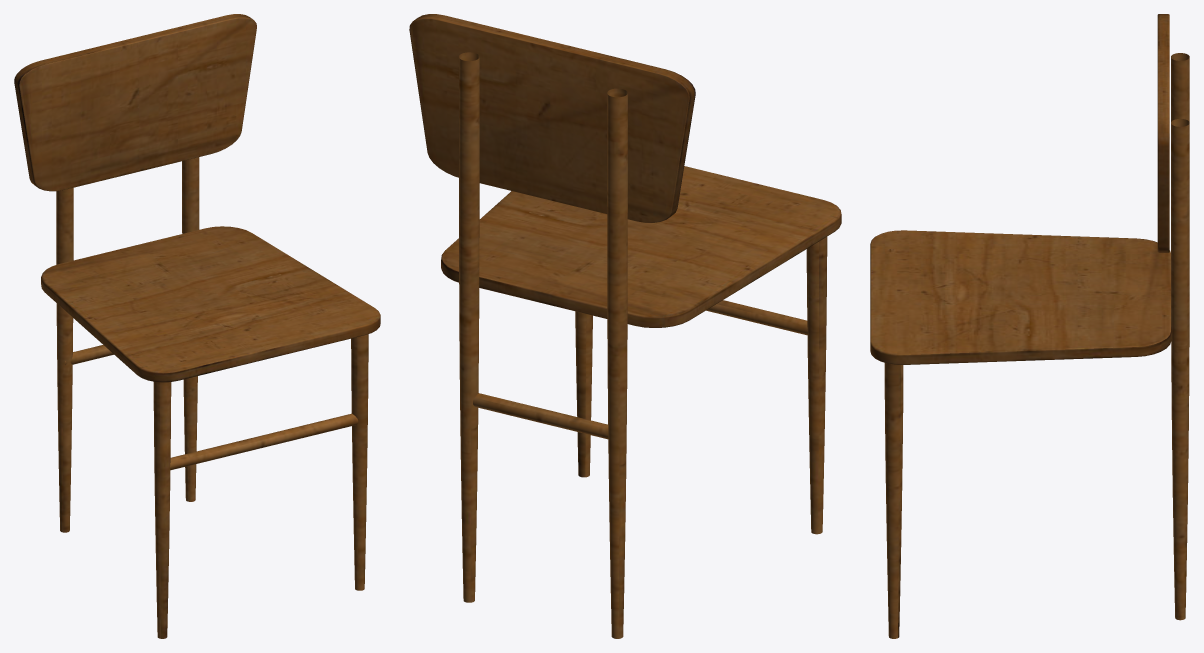
The model's file is Chair.fbx.
3 views of the same model, side by side, from view 1: azimuth 30°, elevation 25°; view 2: azimuth 150°, elevation 25°; view 3: azimuth 270°, elevation 25° (orthographic). The views are drawn at different scales.
Parts seen in each view (by area): view 1: Chair_Chair_0; view 2: Chair_Chair_0; view 3: Chair_Chair_0.
Boxes of the visible parts, x1=… form: Chair_Chair_0: x1=14, y1=14, x2=380, y2=638; Chair_Chair_0: x1=409, y1=14, x2=841, y2=638; Chair_Chair_0: x1=870, y1=14, x2=1189, y2=638.
Bounding box in the file's own units: 62.68 × 121 × 67.76.
